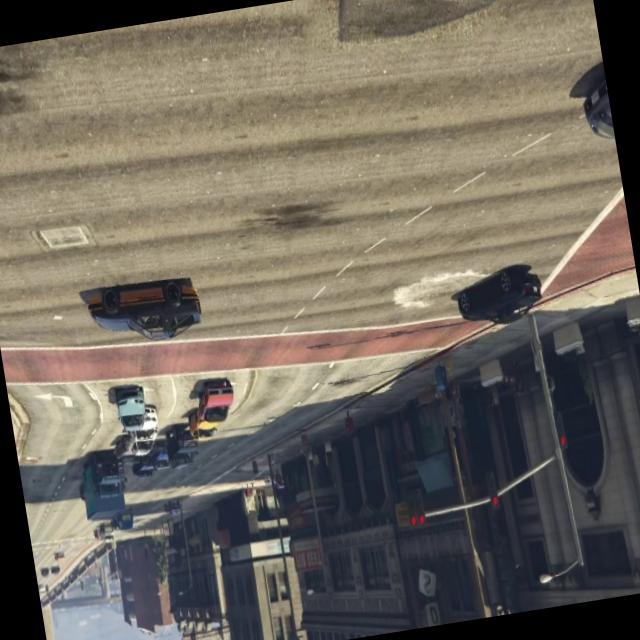Red-Signal: (399, 473, 432, 538), (481, 461, 509, 521), (550, 396, 572, 454)
